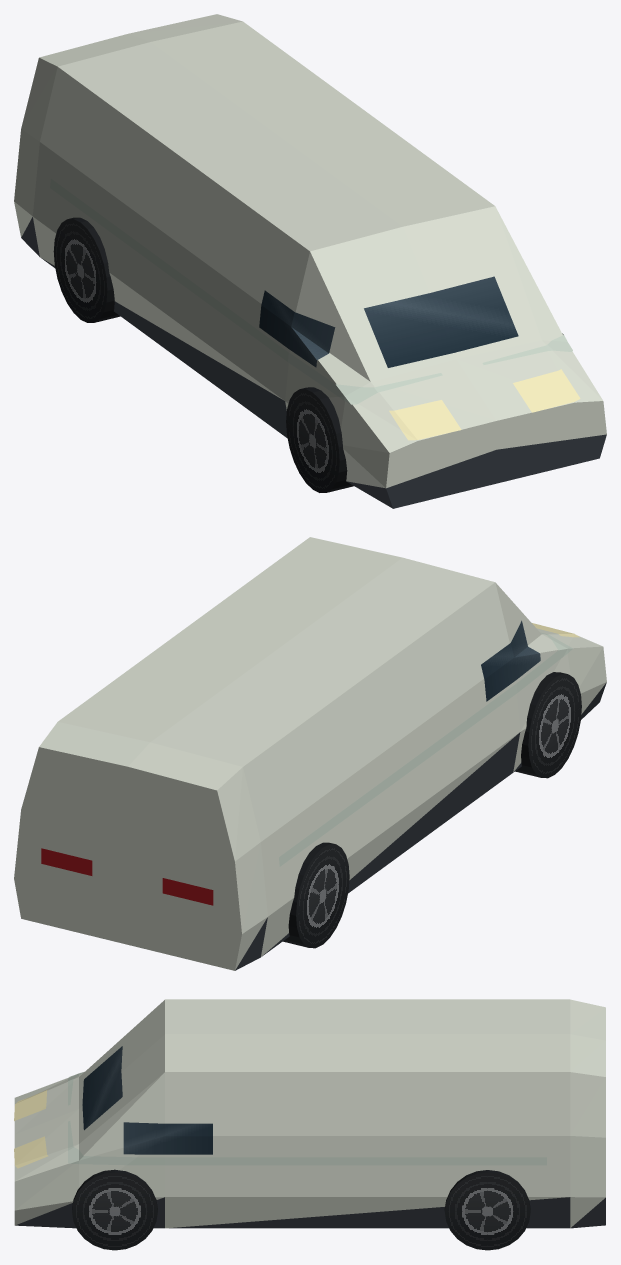
The model's file is furgon.obj.
The picture shows the model from 3 angles, top to bottom: view 1: azimuth 30°, elevation 25°; view 2: azimuth 150°, elevation 25°; view 3: azimuth 270°, elevation 25°; orthographic projection. The views are drawn at different scales.
Visible parts, largest first — view 1: furgon; view 2: furgon; view 3: furgon.
Boxes of the visible parts, left/top/right/bottom form: furgon: left=14, top=14, right=606, bottom=508; furgon: left=14, top=537, right=606, bottom=970; furgon: left=14, top=999, right=605, bottom=1250.
Bounding box in the file's own units: 2.05 × 1.7 × 5.41.
8 materials, 2 textured.
